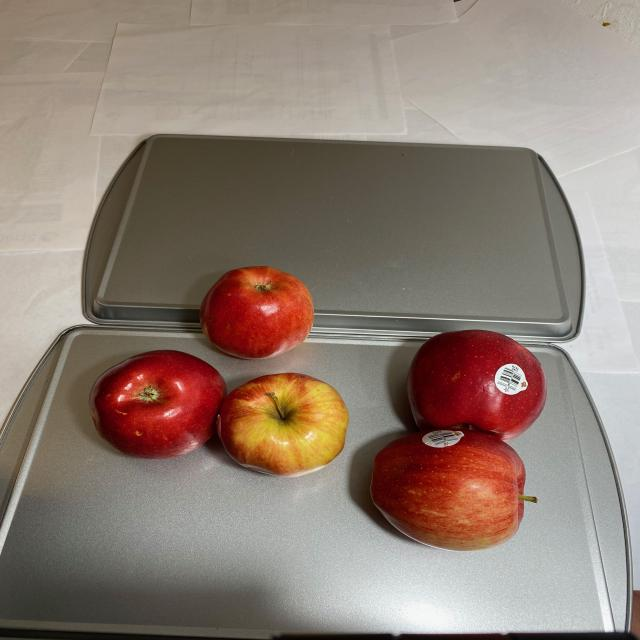apple: (83, 264, 349, 481), (365, 328, 550, 555)
